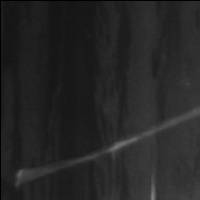scratches: (14, 104, 197, 187)
